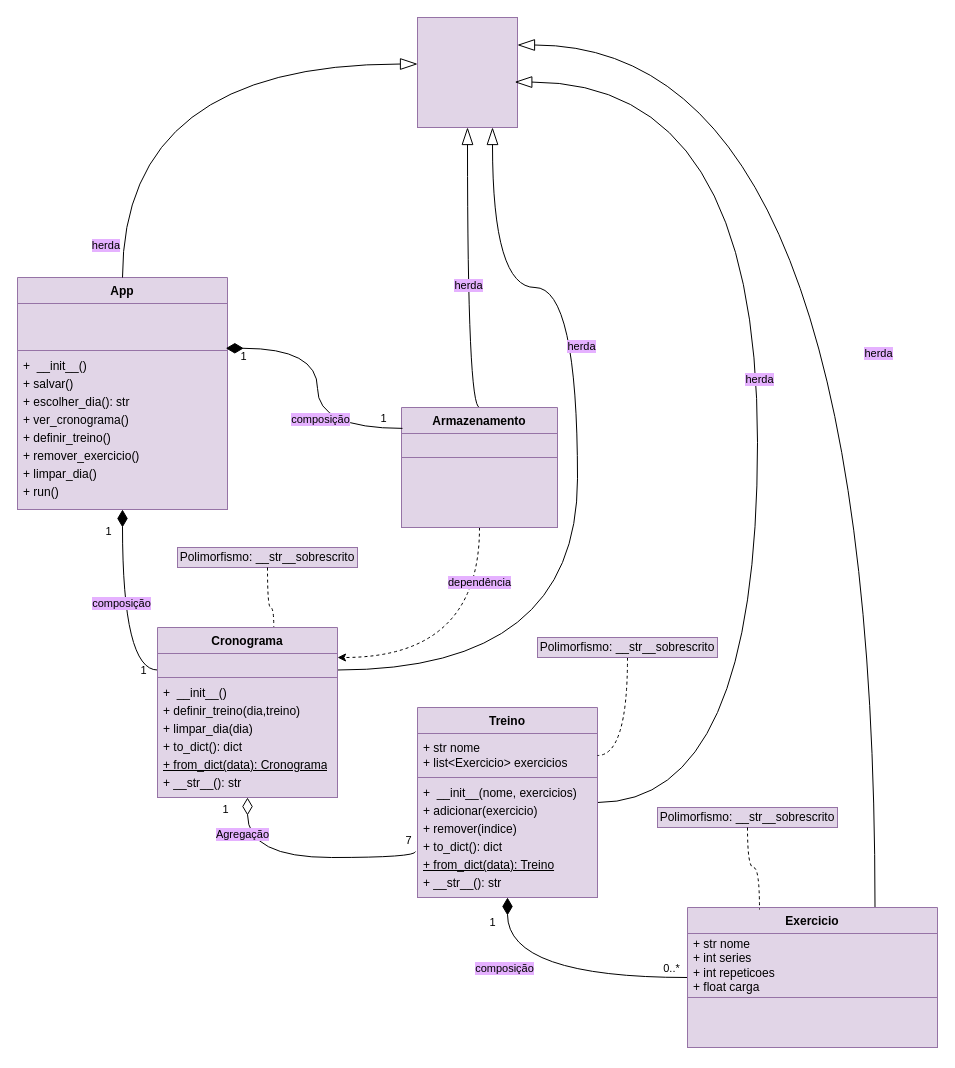
This 955x1068 diagram has some shape labels left out. Here are the shapes that lost their labels. From the top down, the centre of each, then its label:
At (467,72): "<<built-in>> object + __init__() + __str__(): str".
At (122,326): "+ Armazenamento: armazenamento + Cronograma: cronograma".
At (479,445): "+ str arquivo".
At (479,492): "+ __init__(arquivo) + salvar(cronograma) + carregar(): Cronograma".
At (247,665): "+ dict dias".
At (812,1022): "+ __init__(nome, series, repeticoes, carga) + __str__(): str".
